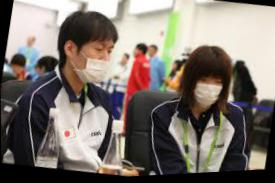OK: (188, 72, 228, 113)
WRONG: (75, 38, 115, 90)
